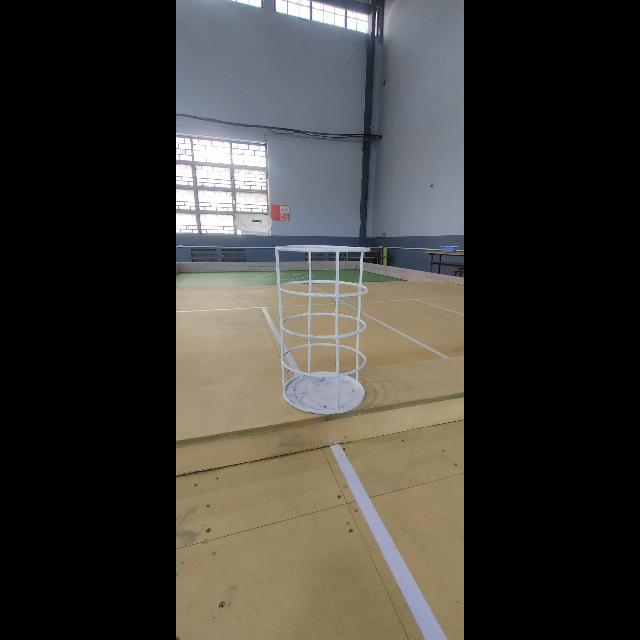S: (273, 244, 371, 416)
